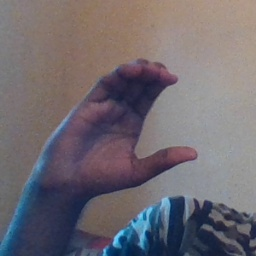C: (115, 55, 214, 191)
